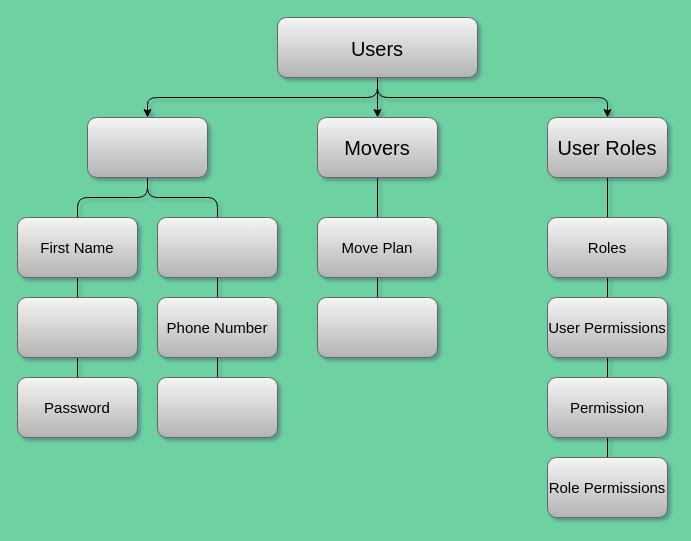
The diagram is 691 pixels wide and 541 high, and some of its shapes have lost their labels. Each missing label, with the centre of its shape:
Email: the point at 217,247
Last Name: the point at 77,327
Location: the point at 217,407
User Inventory Items: the point at 377,327
User Profile: the point at 147,147
